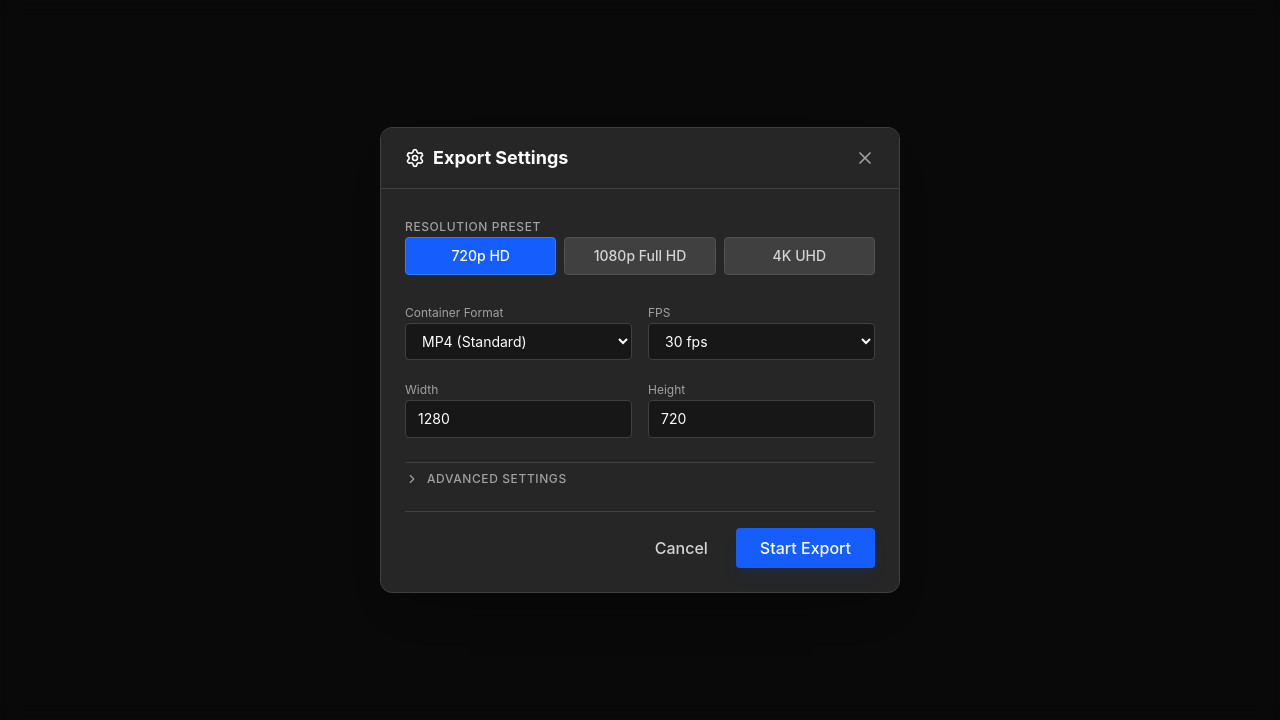
Scenario: ExportModal › updates settings when preset clicked
This screenshot has width=1280, height=720.
Note: Toggle Advanced to see Bitrate field
What coordinates should you click on to do the following:
click the button "Advanced Settings"
I would click on:
 (497, 478)
Its box is [405,462,875,487].
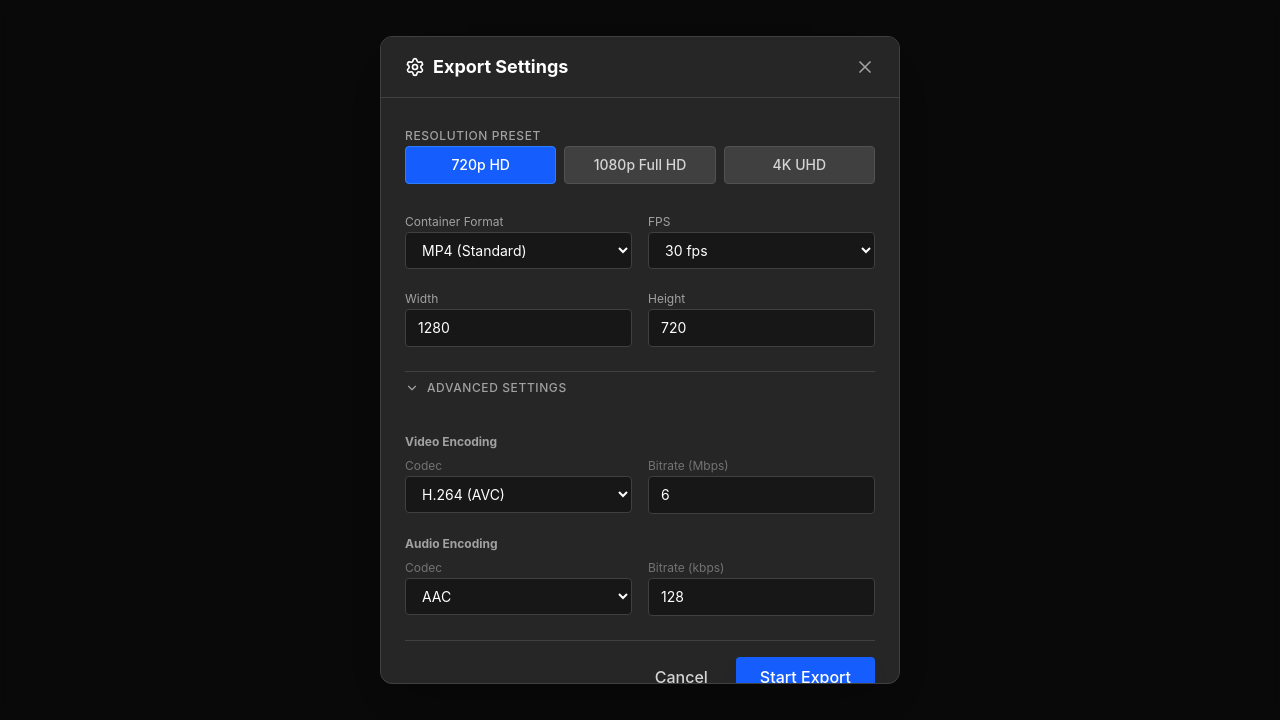
What coordinates should you click on to do the following:
click the button "1080p Full HD"
I would click on:
 (640, 165)
Its box is [564,146,716,184].
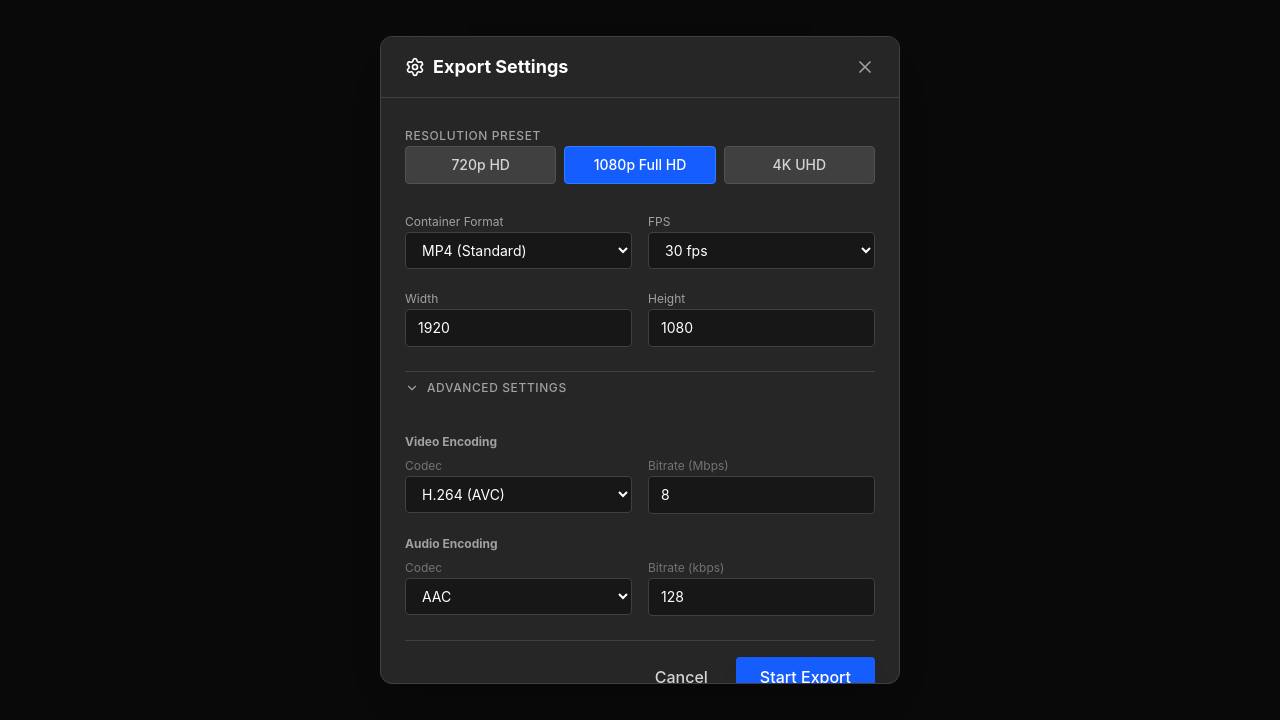
Check: the number field labelled "Width" holds "1920", box [405,309,632,347]
Check: the number field labelled "Height" holds "1080", box [648,309,875,347]
Check: the number field labelled "Bitrate (Mbps)" holds "8", box [648,476,875,514]
